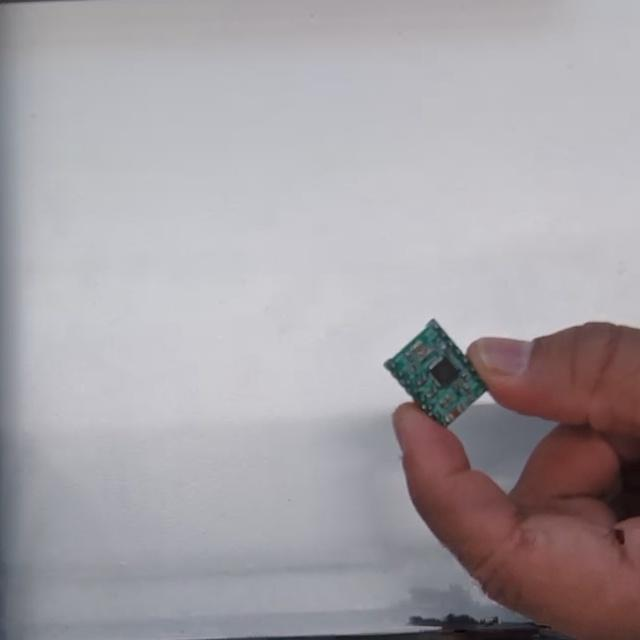Chip: (389, 322, 489, 418)
